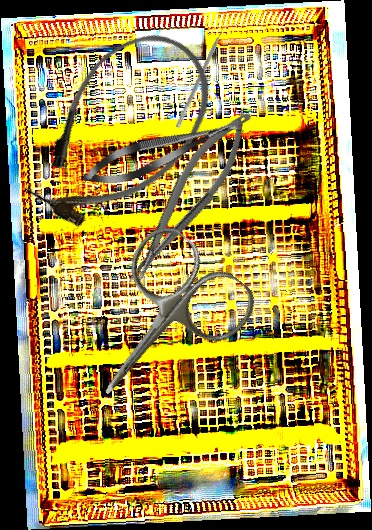Cannula: (1, 7, 240, 255)
Iris Scissors: (53, 216, 265, 435)
Micro Scissor: (78, 108, 247, 195)
Needle Holder: (110, 100, 267, 293)
Spatula Surgical: (175, 23, 230, 130)
